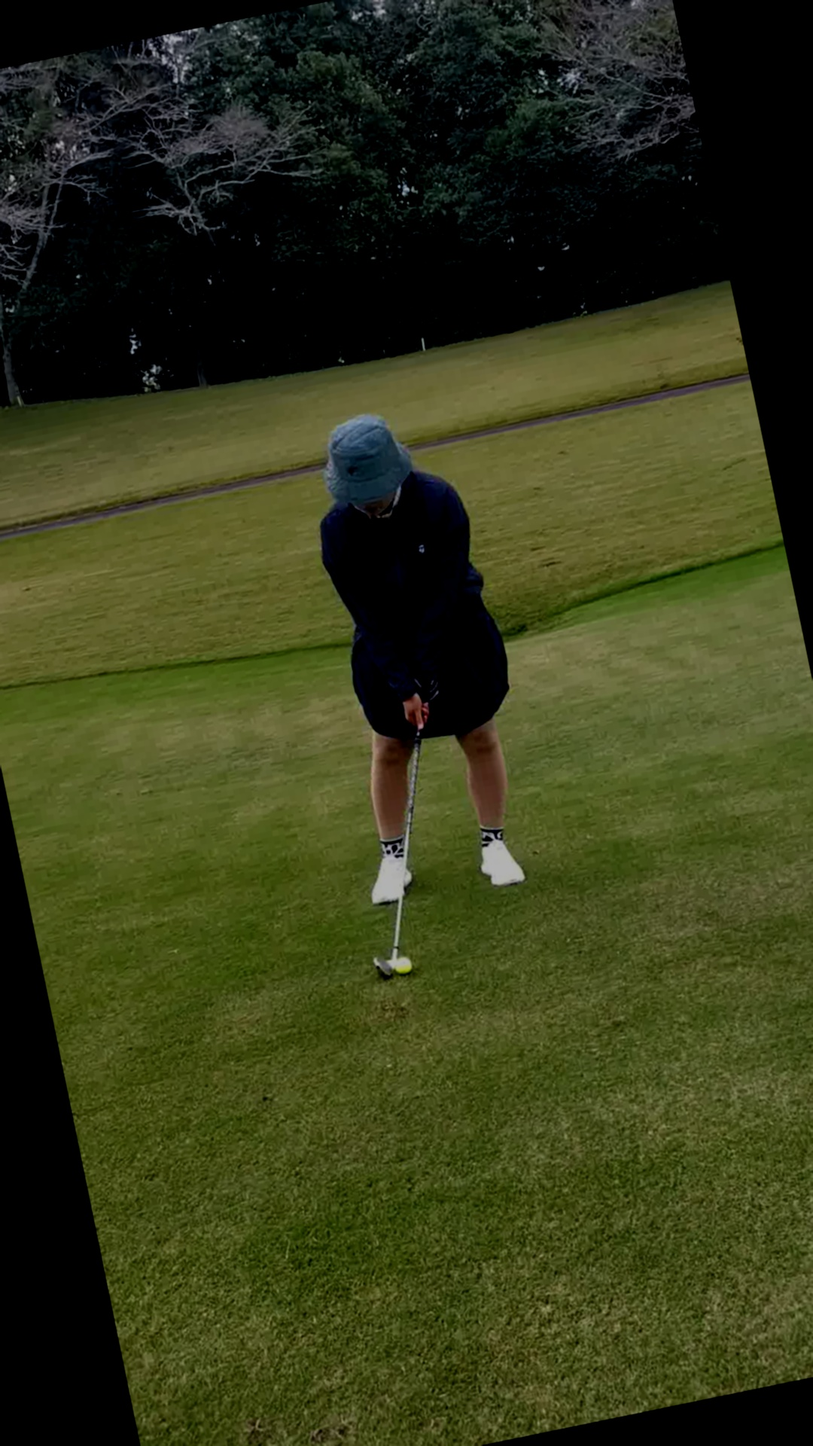clubhead: (267, 920, 453, 1066)
